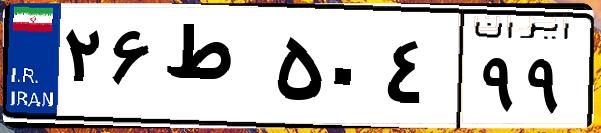0: (330, 28, 385, 110)
2: (57, 26, 110, 100)
4: (385, 28, 445, 110)
5: (270, 28, 330, 110)
6: (110, 28, 158, 98)
9: (475, 38, 525, 113), (525, 38, 570, 115)
ط: (158, 20, 270, 120)
